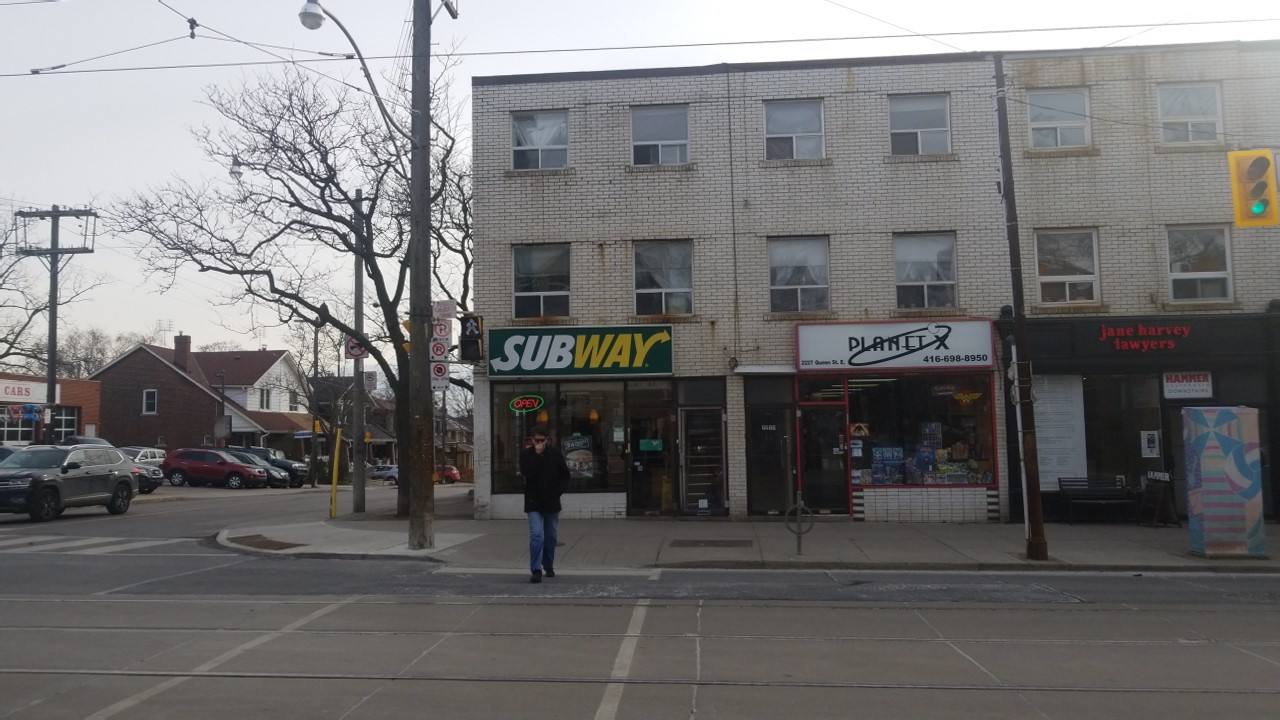light: (459, 311, 488, 366)
